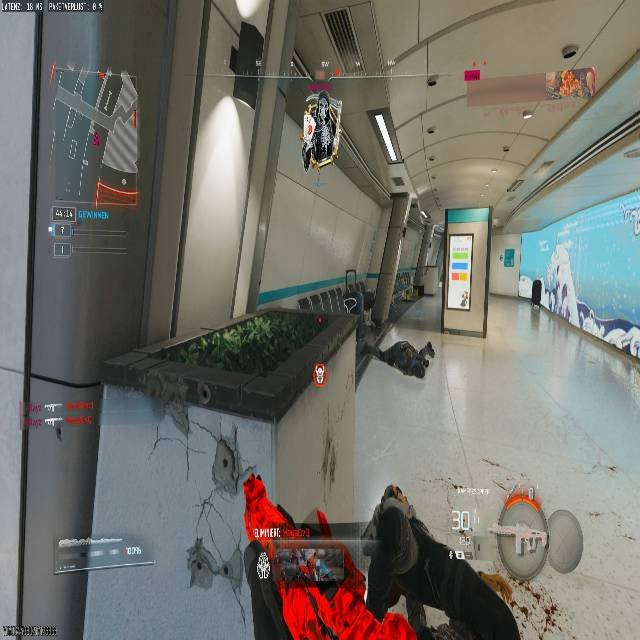player: (300, 89, 339, 167)
